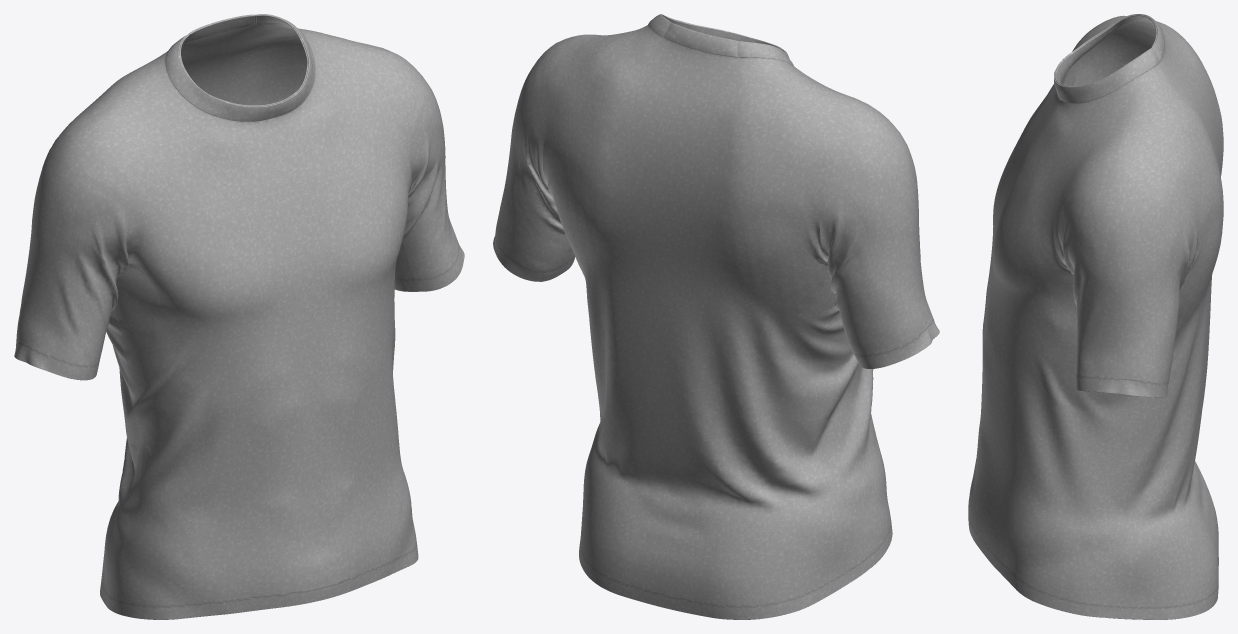
The model's file is modelo.glb.
The picture shows the model from 3 angles, left to right: view 1: azimuth 30°, elevation 25°; view 2: azimuth 150°, elevation 25°; view 3: azimuth 270°, elevation 25°; orthographic projection. The views are drawn at different scales.
Parts seen in each view (by area): view 1: Cloth; view 2: Cloth; view 3: Cloth.
Part boxes in pixels (x1,y1,x2,y2): Cloth: [14, 14, 464, 619]; Cloth: [493, 14, 939, 619]; Cloth: [968, 14, 1223, 619].
Size of the model in its own units: 0.5532 by 0.6769 by 0.2884.
1 material, 1 textured.
